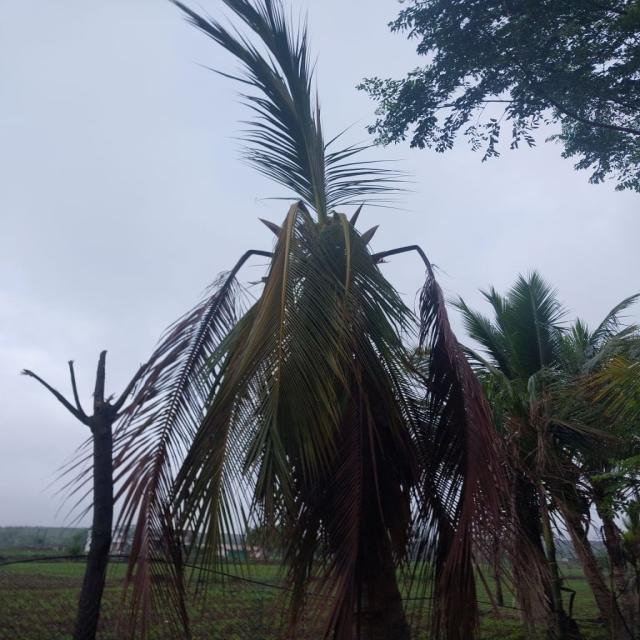bud root dropping: (118, 0, 500, 640)
